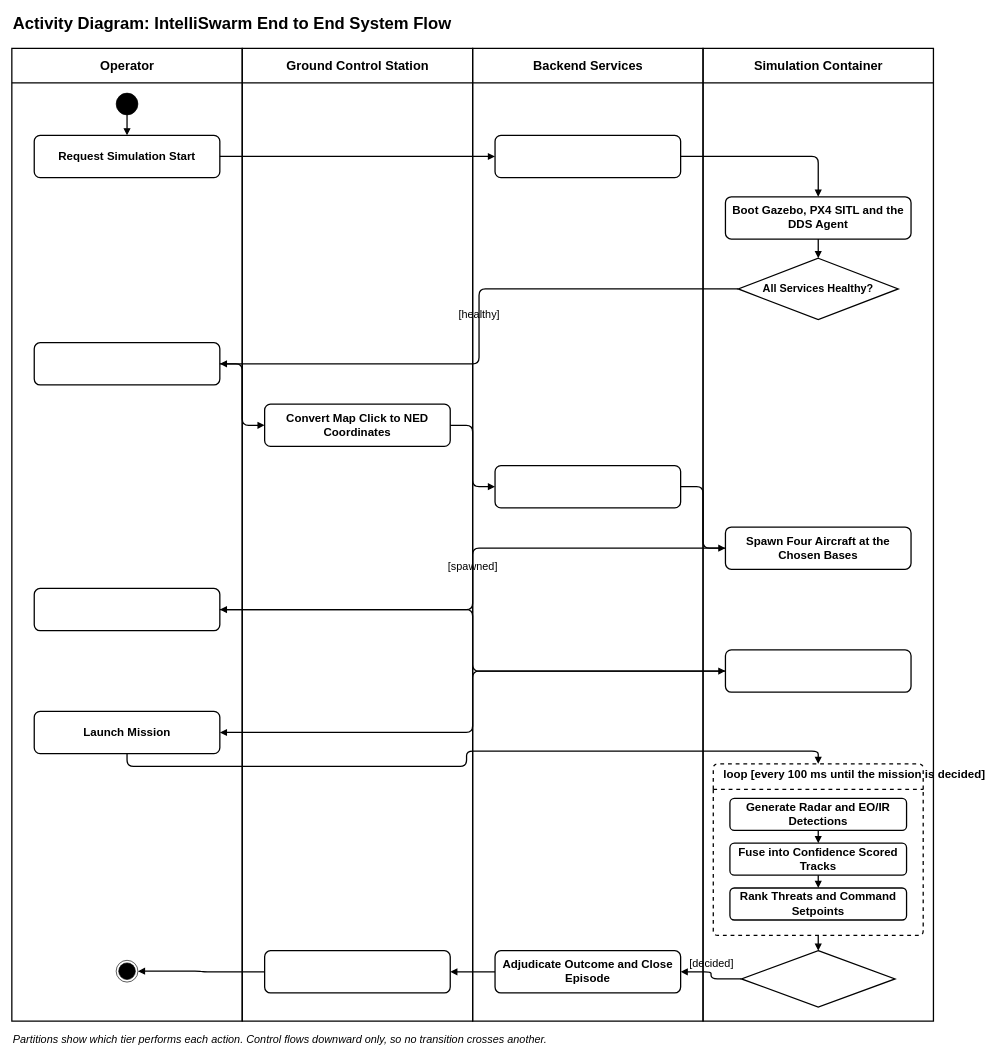
Image size: 996x1060. Some labels were removed from this diagram. Each missing label, with the centre of its shape:
Apply Degradation Between Detection and Fusion: (x=817, y=670)
Configure Attack Scenario and Weather: (x=126, y=609)
Display Result and Offer Replay: (x=357, y=971)
Launch Docker Container and ROS 2 Nodes: (x=587, y=156)
Mission Decided?: (x=817, y=978)
Place Attacker and Defender Bases on Map: (x=126, y=363)
Publish Bases and Await Acknowledgement: (x=587, y=486)
